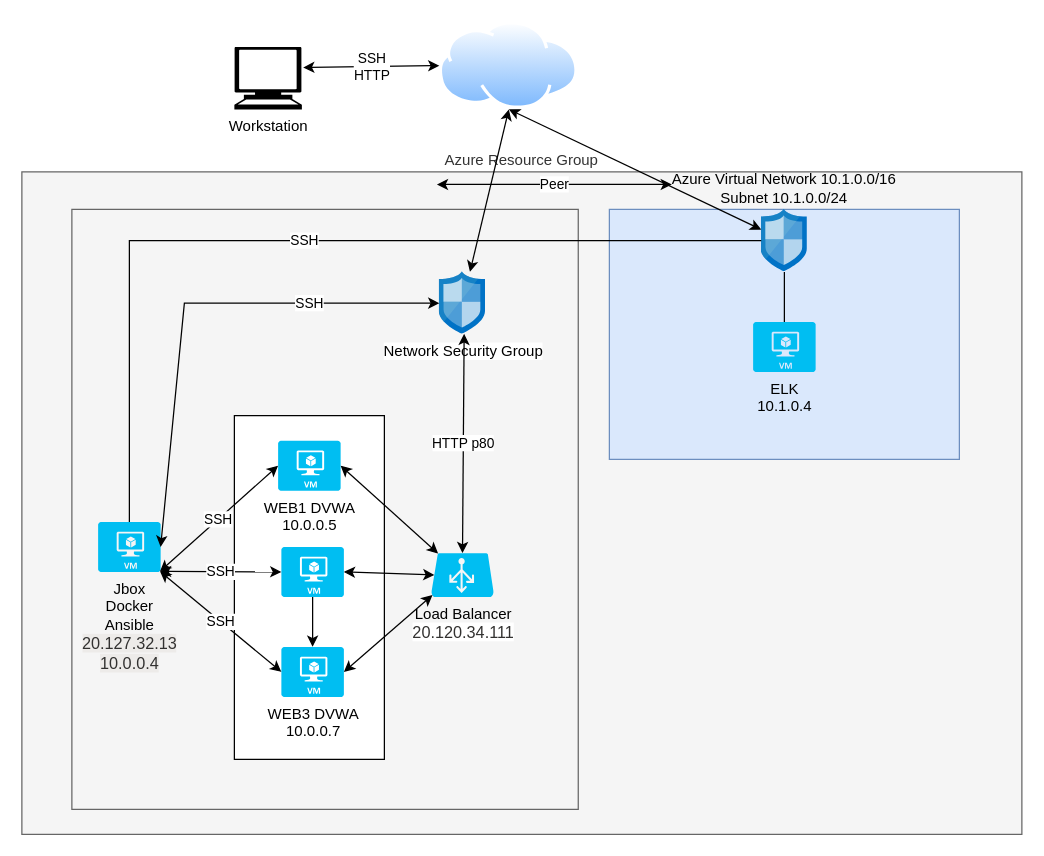
The diagram is 1044 pixels wide and 856 high, and some of its shapes have lost their labels. Here are the shapes that lost their labels. From the top down, the box of each, then its label:
(439, 21, 578, 109): Internet
(71, 208, 578, 809): Azure Virtual Network; 10.0.0.0/16 Azure Virtual Subnet 10.0.0.0/24
(233, 414, 384, 759): Load Balancer Backend Pool
(281, 546, 343, 596): WEB2 DVWA 10.0.0.6
